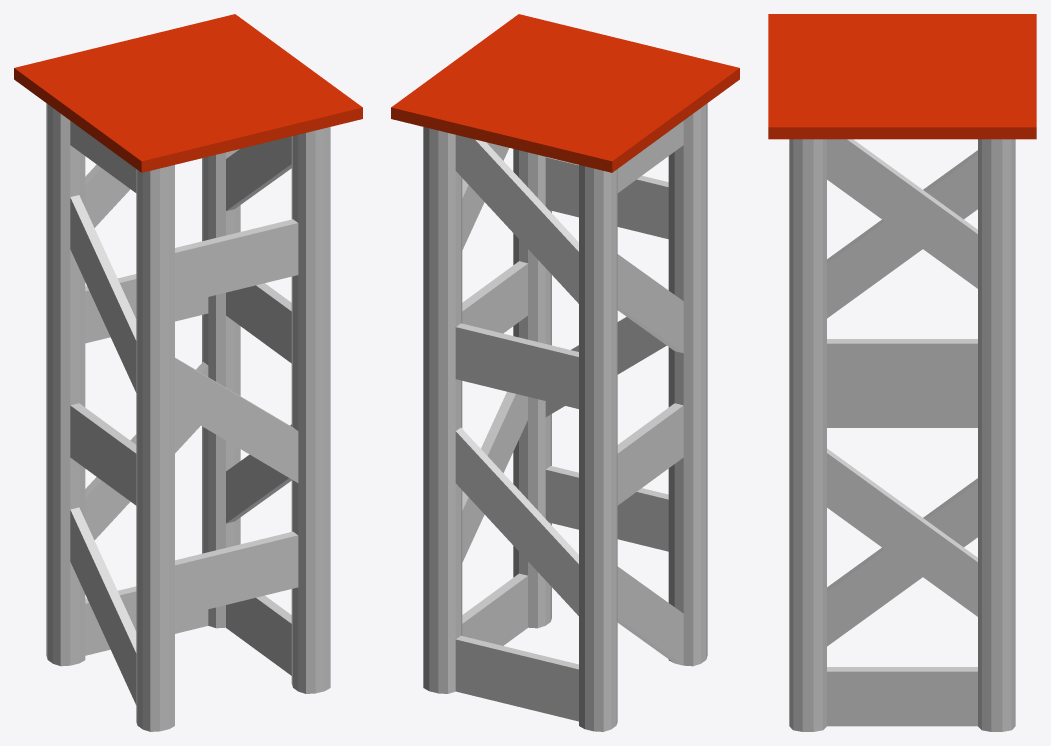
Rendered from FMP_Scaffolding.fbx.
The picture shows the model from 3 angles, left to right: view 1: azimuth 30°, elevation 25°; view 2: azimuth 150°, elevation 25°; view 3: azimuth 270°, elevation 25°; orthographic projection. The views are drawn at different scales.
Parts seen in each view (by area): view 1: Cube.001; view 2: Cube.001; view 3: Cube.001.
Part boxes in pixels (x1,y1,x2,y2): Cube.001: [14, 14, 362, 731]; Cube.001: [391, 14, 739, 731]; Cube.001: [768, 14, 1036, 731].
Bounding box in the file's own units: 4 × 4 × 10.1.
